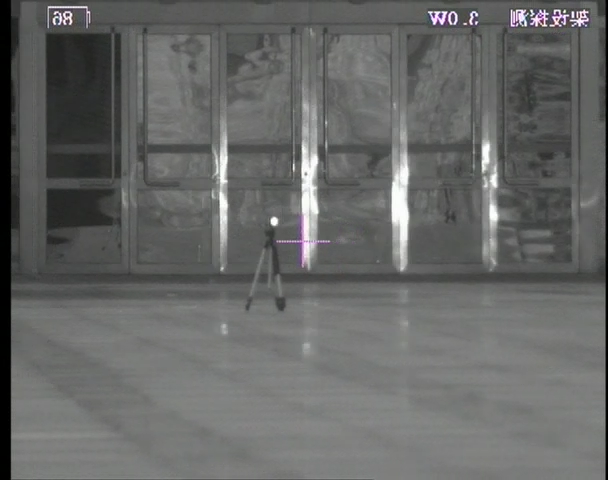my: (269, 216, 278, 227)
